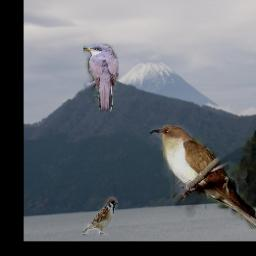Cuckoo: (150, 125, 256, 229), (83, 45, 119, 112)
Sparrow: (82, 198, 117, 236)
